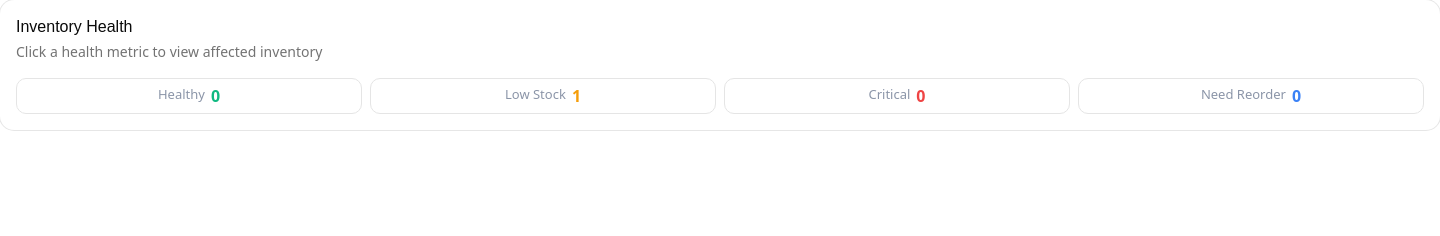
InventoryHealth › shows empty state when no items match the filter
Click the button "Need Reorder 0": (1251, 96) top-left (1078, 78), bottom-right (1424, 114)
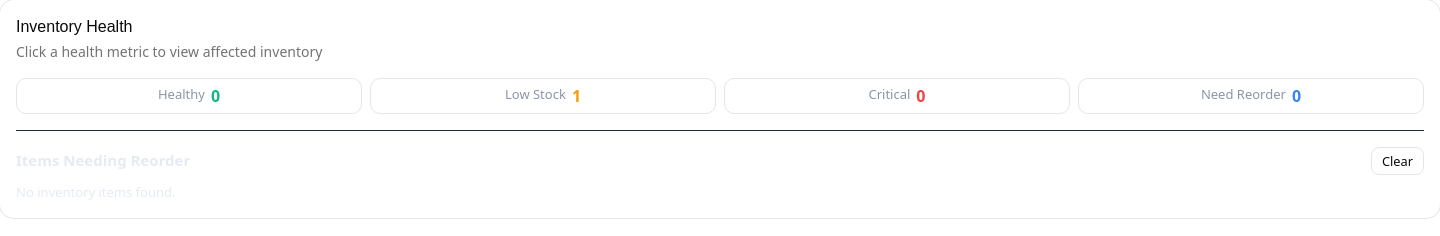
Result: the heading "Items Needing Reorder" is shown at top-left (16, 150), bottom-right (190, 172)
Result: the text "No inventory items found." is shown at top-left (16, 183), bottom-right (176, 201)
